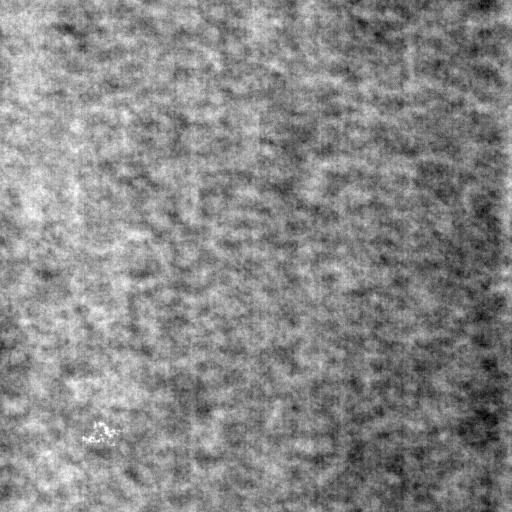DefectTypeA: (75, 419, 124, 450)
